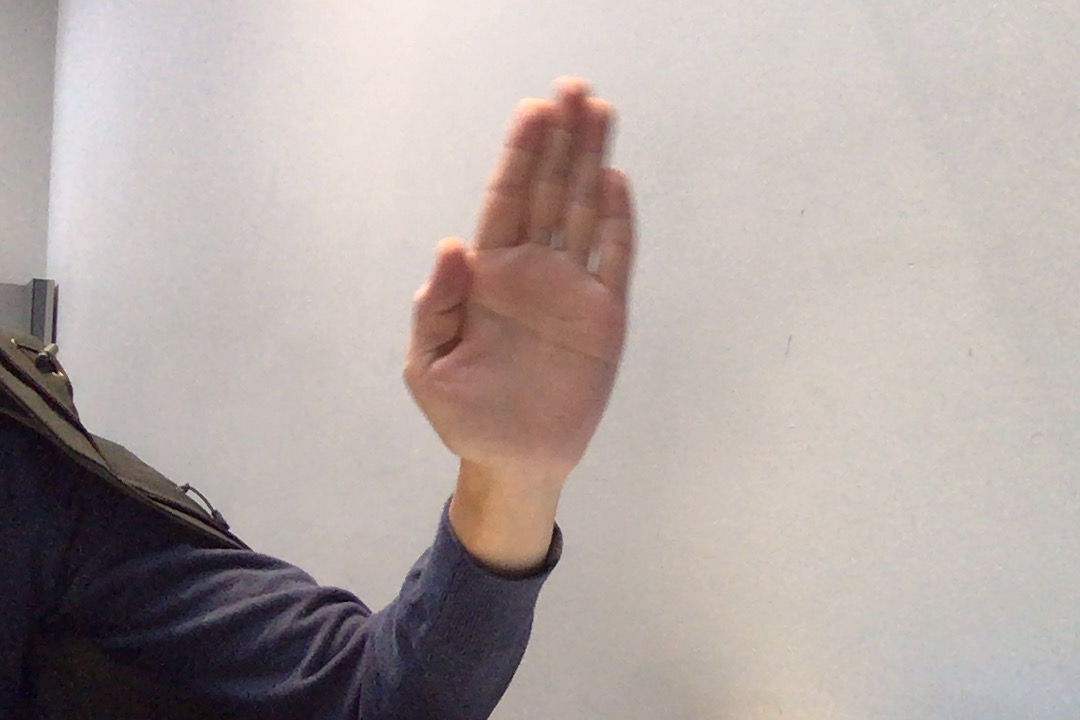palmhand: (380, 60, 661, 498)
